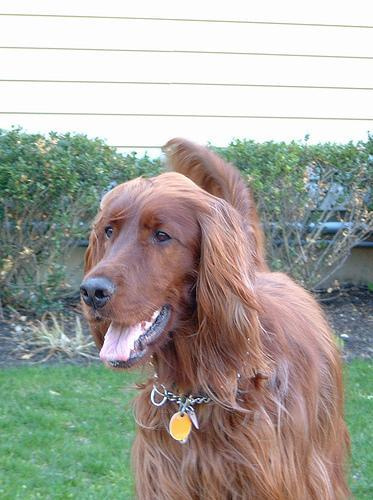Irish_setter: (78, 137, 351, 498)
